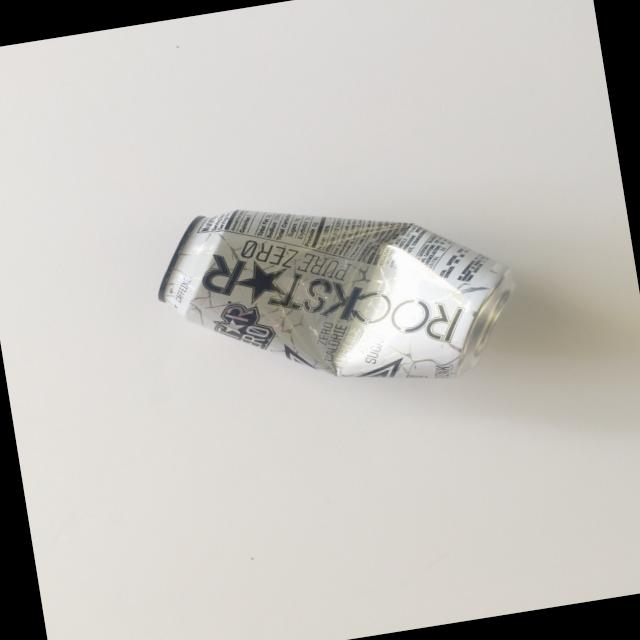Metal: (127, 156, 557, 454)
